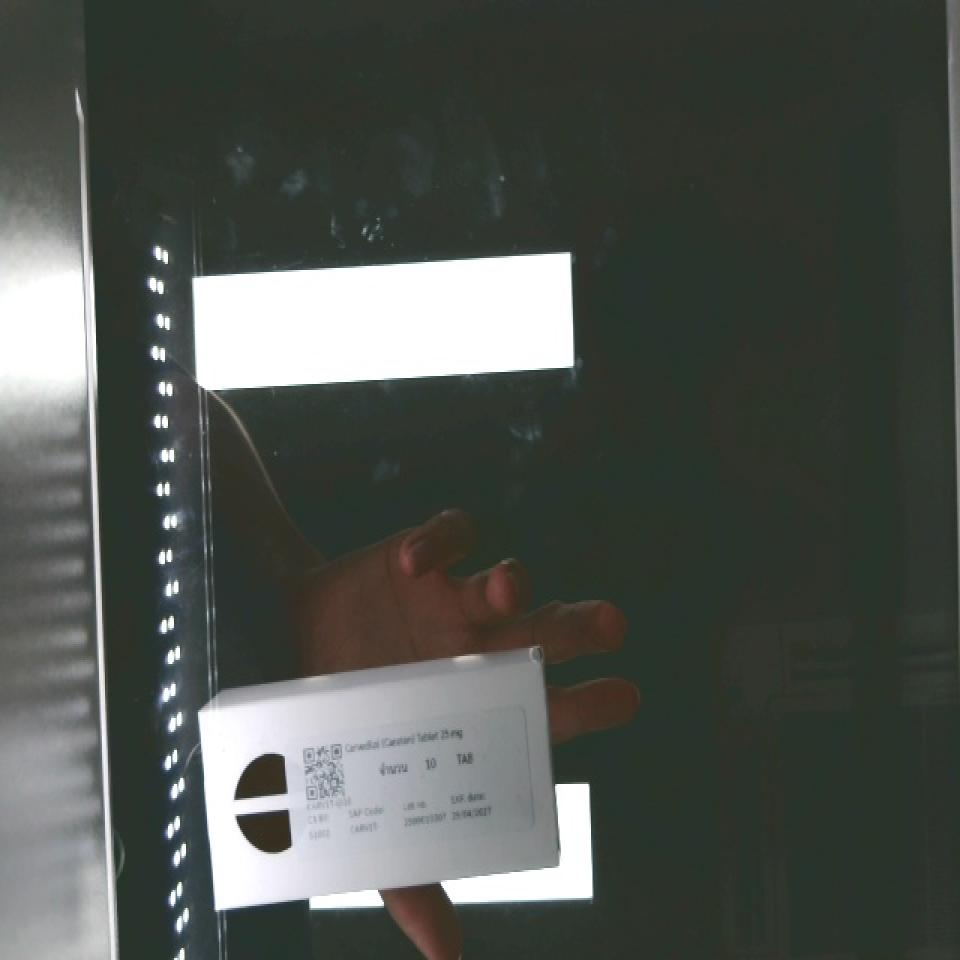medicine_box: (193, 659, 566, 912)
qr_code: (294, 740, 355, 810)
